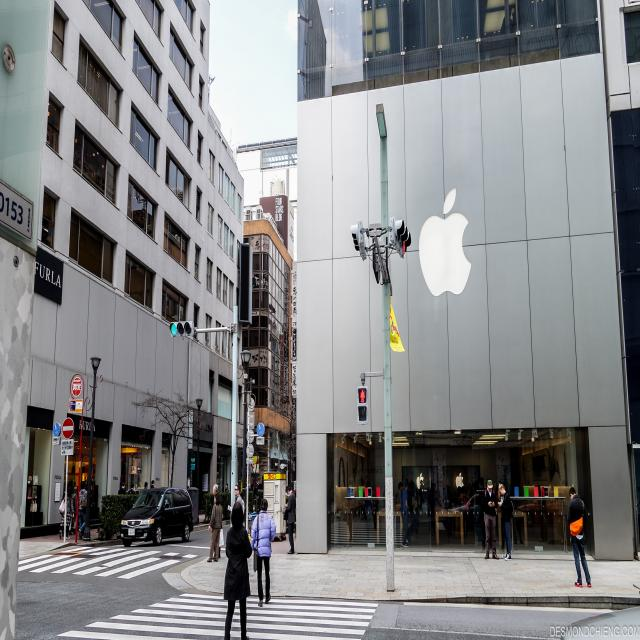body: (222, 500, 252, 640), (250, 497, 277, 607), (412, 480, 472, 524), (567, 484, 591, 588), (482, 478, 500, 562), (356, 496, 386, 544), (497, 483, 515, 562), (207, 492, 223, 563), (212, 484, 223, 559), (284, 486, 296, 554), (60, 485, 74, 539), (344, 476, 355, 544), (401, 480, 410, 548), (78, 481, 88, 540), (383, 481, 404, 501), (72, 486, 78, 536), (234, 484, 243, 508), (140, 480, 159, 490), (117, 482, 127, 495), (127, 481, 136, 495), (242, 491, 246, 522), (62, 485, 68, 499), (224, 483, 230, 493)
